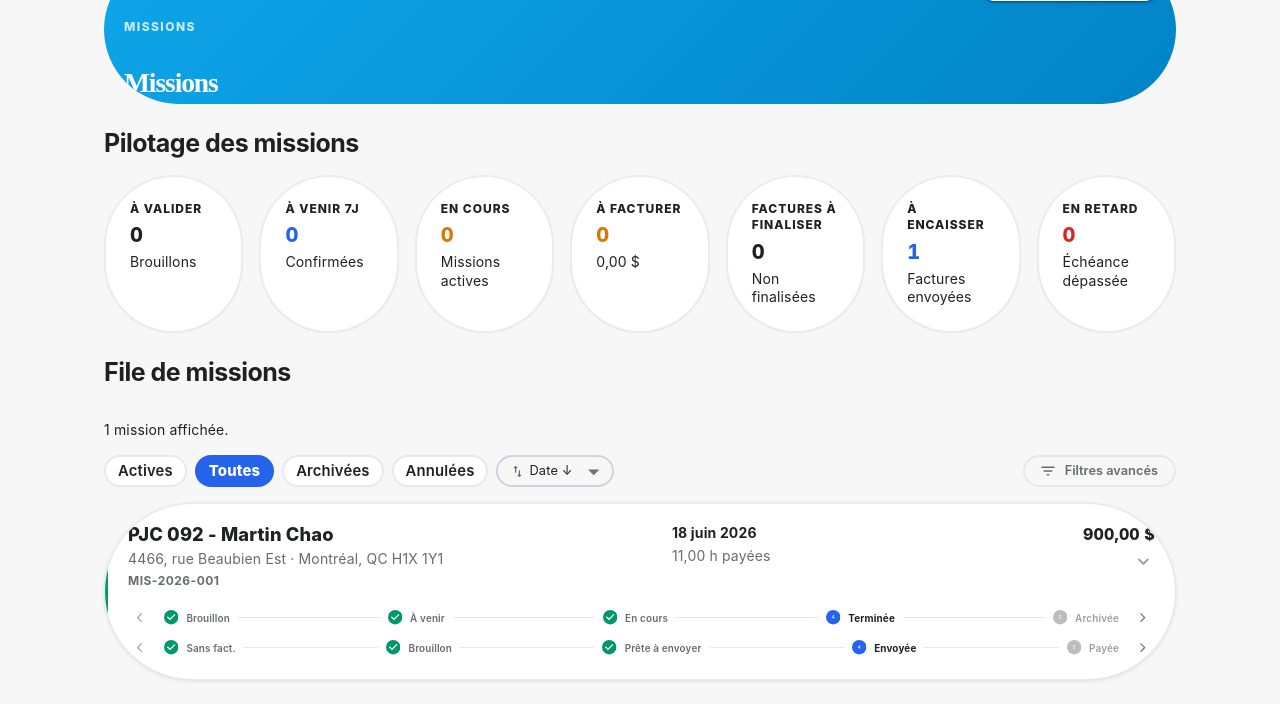
MissionsPage — bidirectional frise navigation › invoice frise back step: sent with no payments → shows revert to ready dialog
The image size is (1280, 704).
(page scrolled)
Click the button named "Reculer : Facture :" at coordinates (140, 648), box [128,636,152,660]
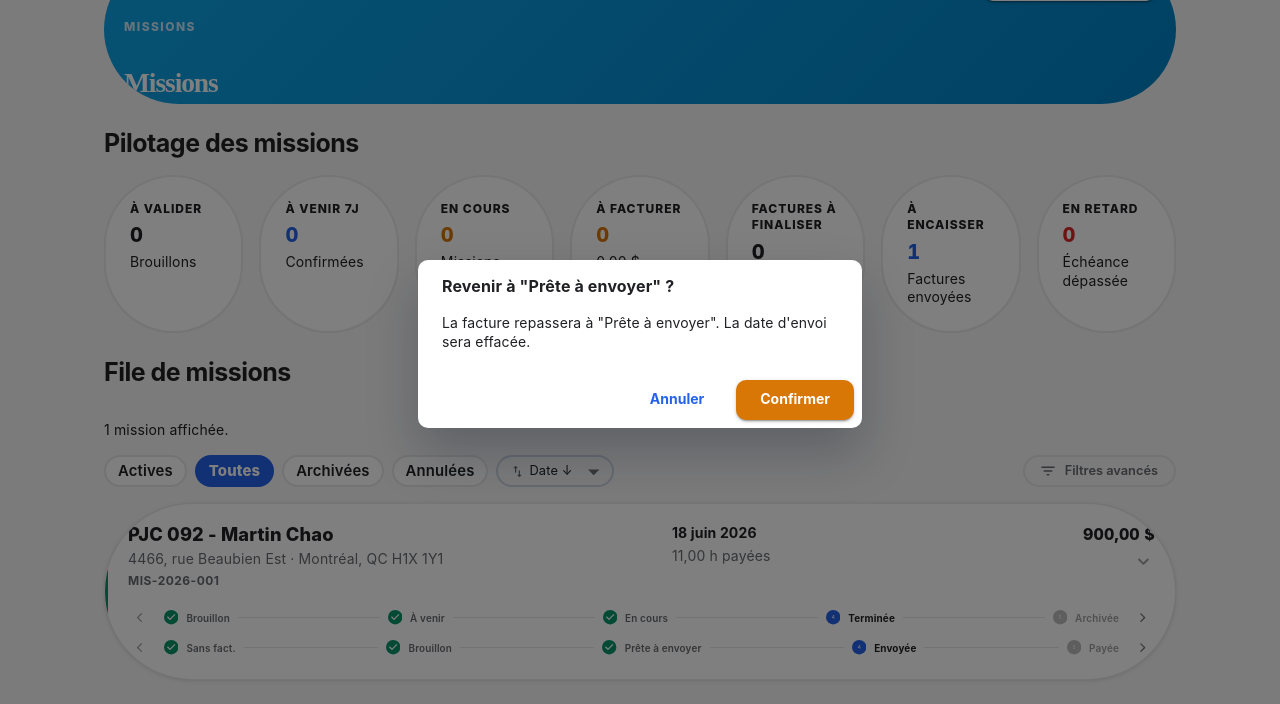
Expected: the heading "Revenir à \"Prête à envoyer\" ?" is shown, [442,276,674,296]
